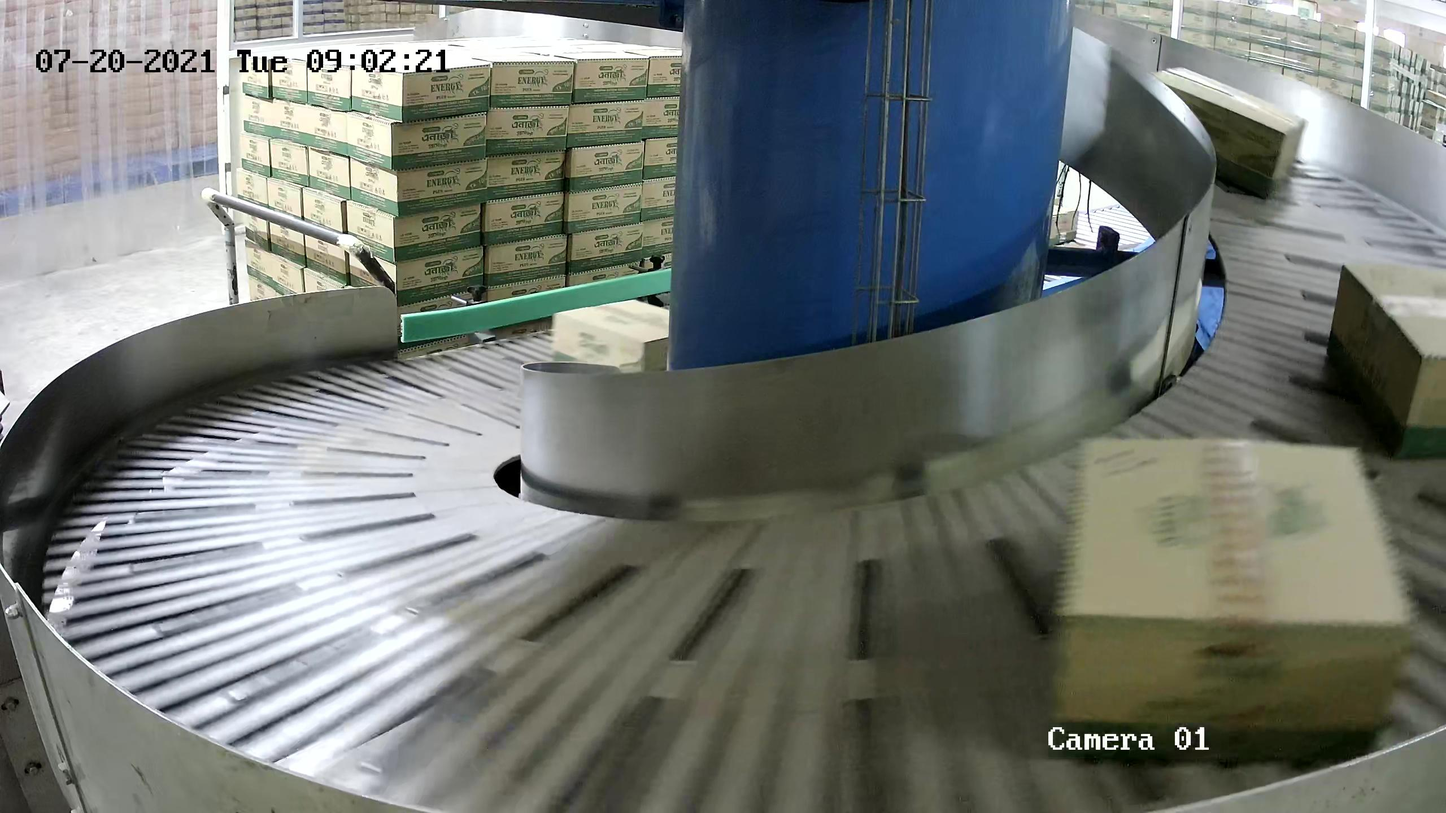Box: (1045, 432, 1418, 767), (1325, 261, 1446, 462), (1148, 65, 1309, 199), (551, 297, 670, 374)
